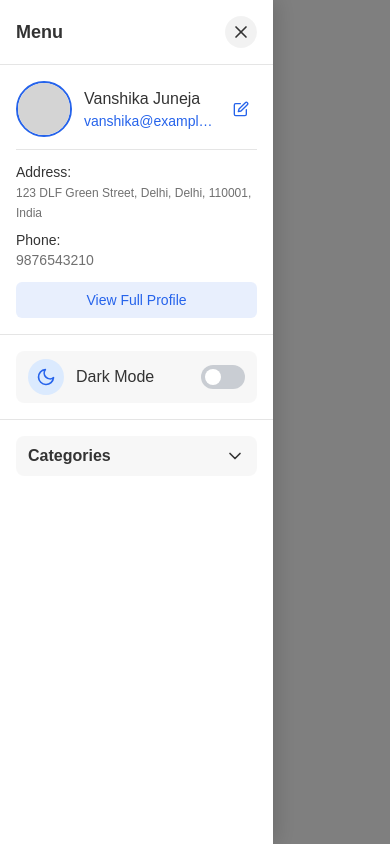
Test: MobileSidebar › rendering › renders offers option
The width and height of the screenshot is (390, 844).
# Expand categories to reveal offers option
Click the button "Categories" at [136, 456], box x1=16 y1=436 x2=257 y2=476
(page scrolled)
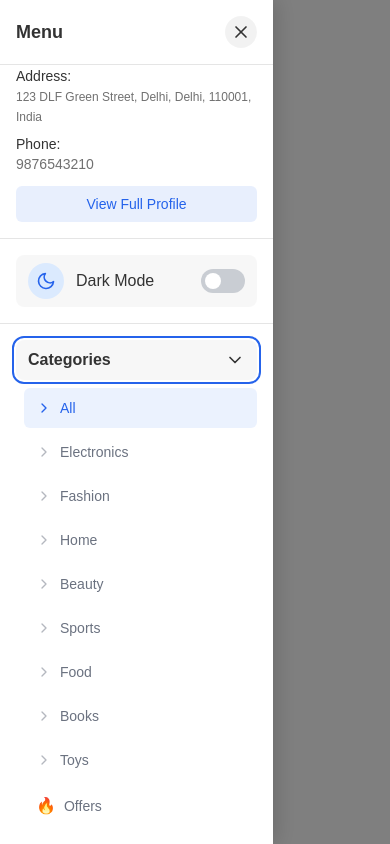
Result: the text "Offers" is shown at x1=64 y1=796 x2=102 y2=816
